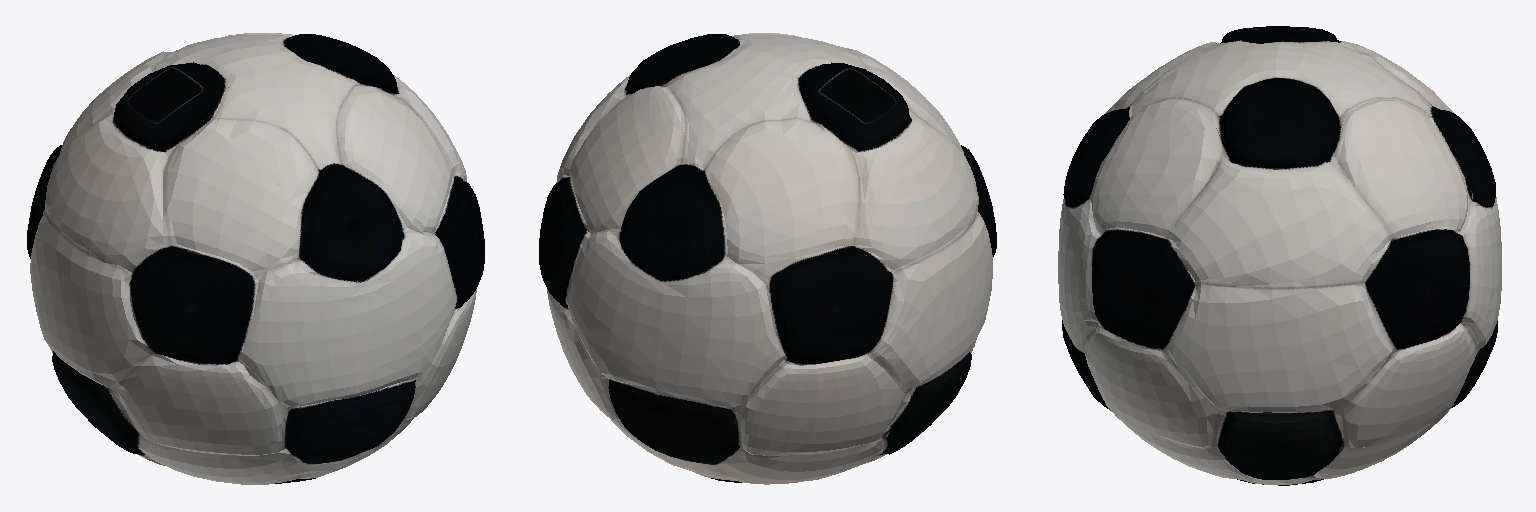
The picture shows the model from 3 angles: view 1: azimuth 30°, elevation 25°; view 2: azimuth 150°, elevation 25°; view 3: azimuth 270°, elevation 25°; orthographic projection.
Parts seen in each view (by area): view 1: tripo_node_da56f981_8465_45c3_b438_d06e79a14d9a; view 2: tripo_node_da56f981_8465_45c3_b438_d06e79a14d9a; view 3: tripo_node_da56f981_8465_45c3_b438_d06e79a14d9a.
Boxes of the visible parts, box(x1,y1,x2,y2) form: tripo_node_da56f981_8465_45c3_b438_d06e79a14d9a: box(27, 33, 484, 484); tripo_node_da56f981_8465_45c3_b438_d06e79a14d9a: box(539, 33, 996, 484); tripo_node_da56f981_8465_45c3_b438_d06e79a14d9a: box(1058, 26, 1501, 485).
Bounding box in the file's own units: 0.232 × 0.2315 × 0.2319.
1 materials, 1 textured.